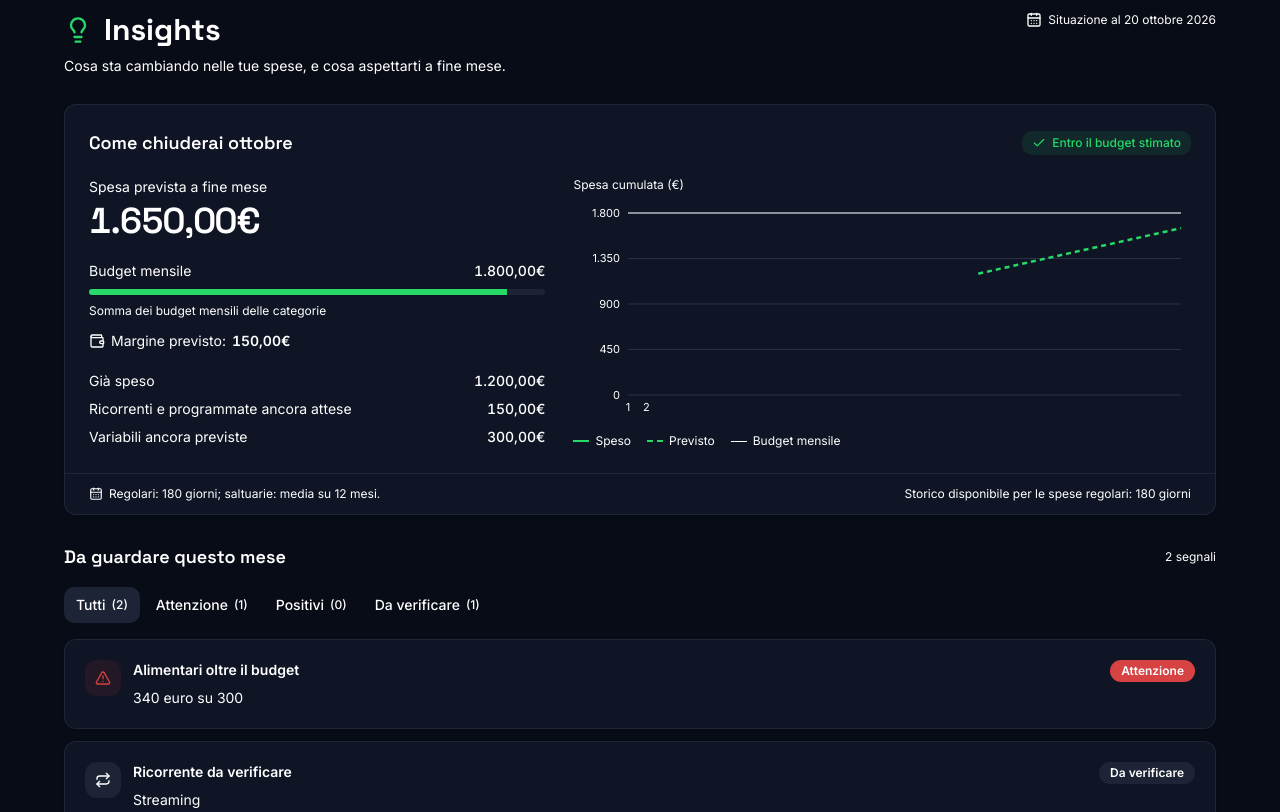
Scenario: filtra i segnali e mantiene la previsione senza confronti o link Apri
This screenshot has width=1280, height=812.
Step 1. Click the button "Da verificare (1)" → coordinates (427, 605), box [363,587,492,623]
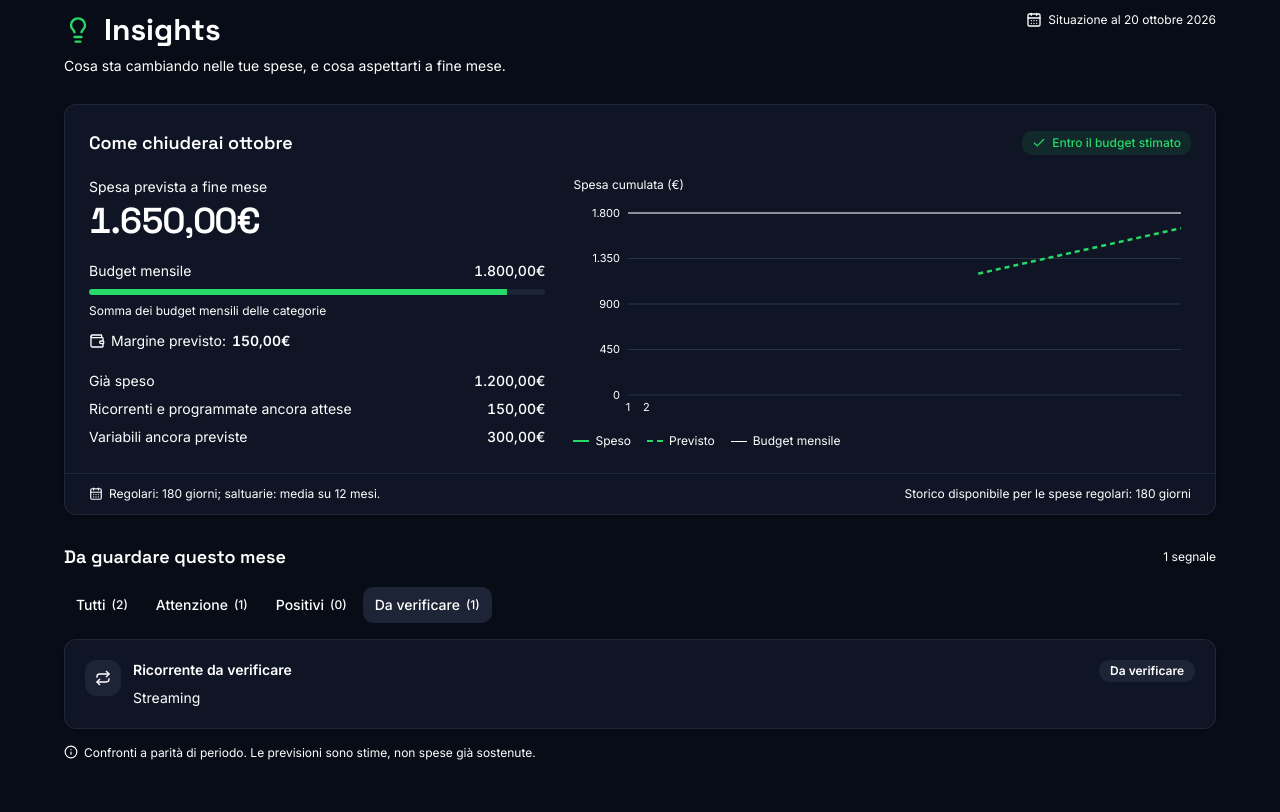
Check: the text "1.650,00€" is shown, box [89,198,260,244]
Check: the heading "Alimentari oltre il budget" is gone
Step 2. Click the button "Tutti (2)" → coordinates (102, 605), box [64,587,140,623]
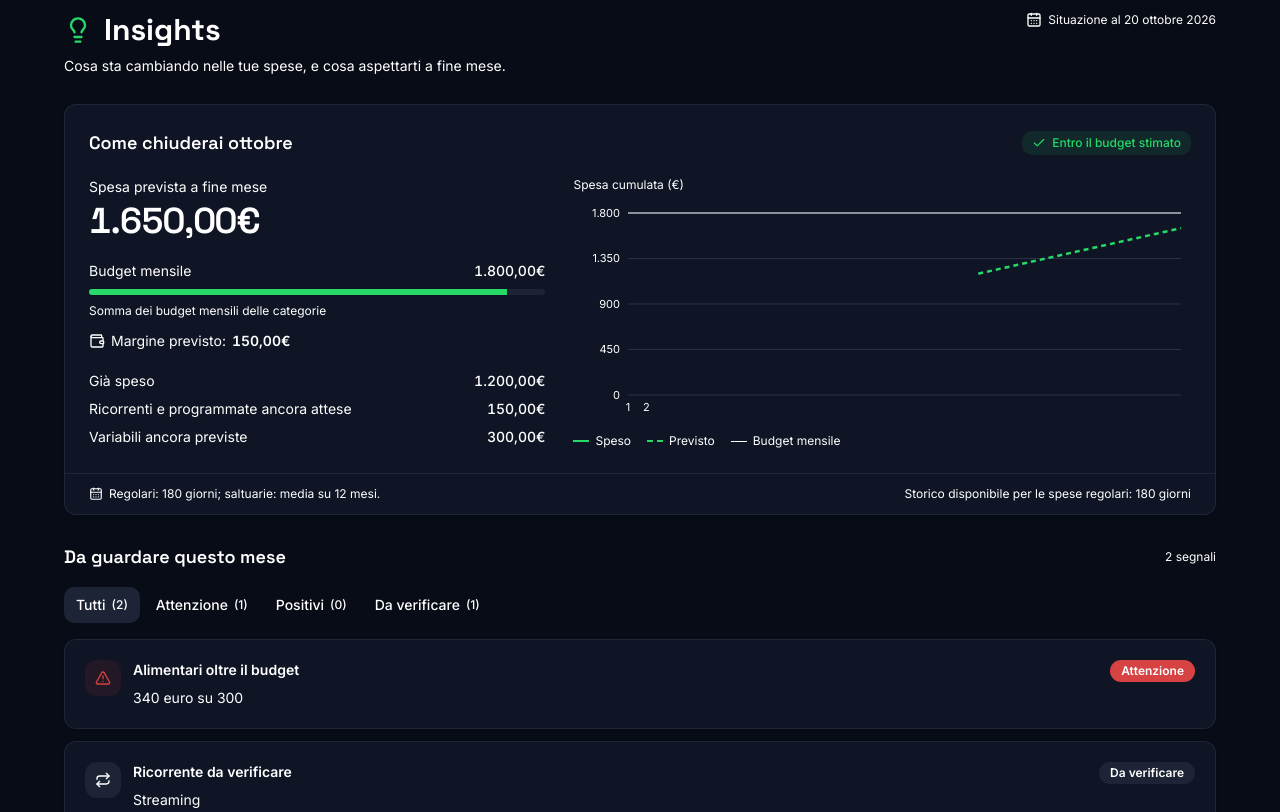
Check: the heading "Alimentari oltre il budget" is shown, box [133,660,299,679]
Check: the text "340 euro su 300" is shown, box [133,689,243,706]
